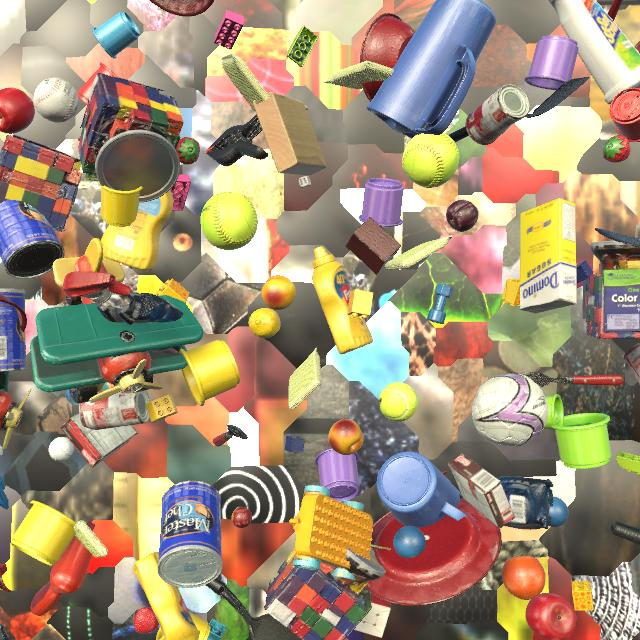ycb_002_master_chef_can: (157, 481, 223, 588), (0, 200, 65, 279), (0, 288, 27, 372)
ycb_004_sugar_box: (520, 198, 577, 313)
ycb_005_tomato_soup_can: (466, 84, 530, 145), (79, 390, 150, 430), (624, 343, 640, 385)
ycb_006_mustard_bottle: (312, 246, 373, 354), (133, 552, 200, 640), (101, 190, 173, 271)
ycb_008_pudding_box: (448, 453, 515, 529), (60, 413, 138, 468)
ycb_012_strawberry: (603, 135, 631, 163), (134, 607, 159, 634), (176, 137, 200, 165)
ycb_013_apple: (525, 593, 576, 640), (0, 88, 35, 134)
ycb_014_lemon: (249, 308, 281, 338)
ycb_015_peach: (328, 419, 363, 455), (261, 275, 296, 310)
ycb_017_orange: (502, 555, 546, 600)
ycb_018_plum: (446, 200, 478, 232)
